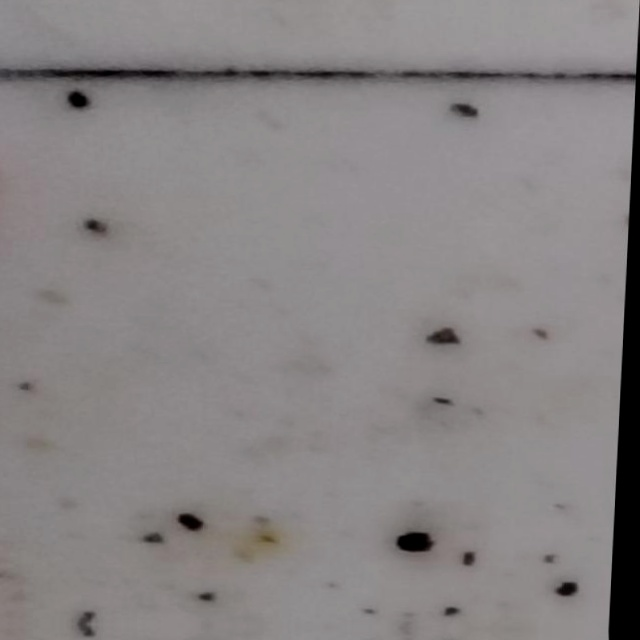varroa: (399, 529, 441, 556), (63, 86, 94, 107)
